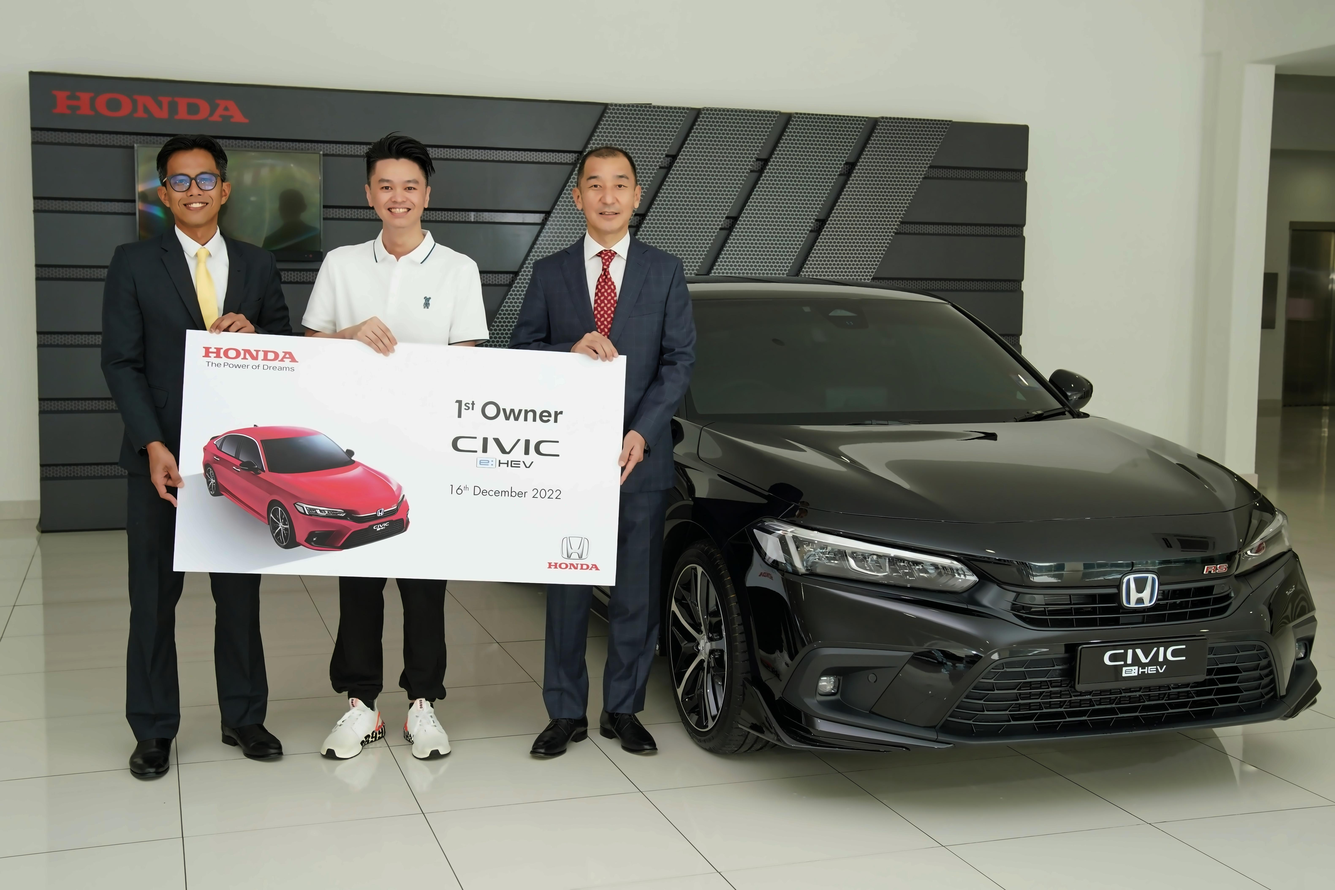Car hood: (697, 414, 1284, 570)
Front bumper: (724, 581, 1331, 768)
Headlight - -L-: (1225, 507, 1311, 582)
Headlight - -R-: (746, 509, 985, 605)
Side mirror - -L-: (1041, 359, 1100, 415)
